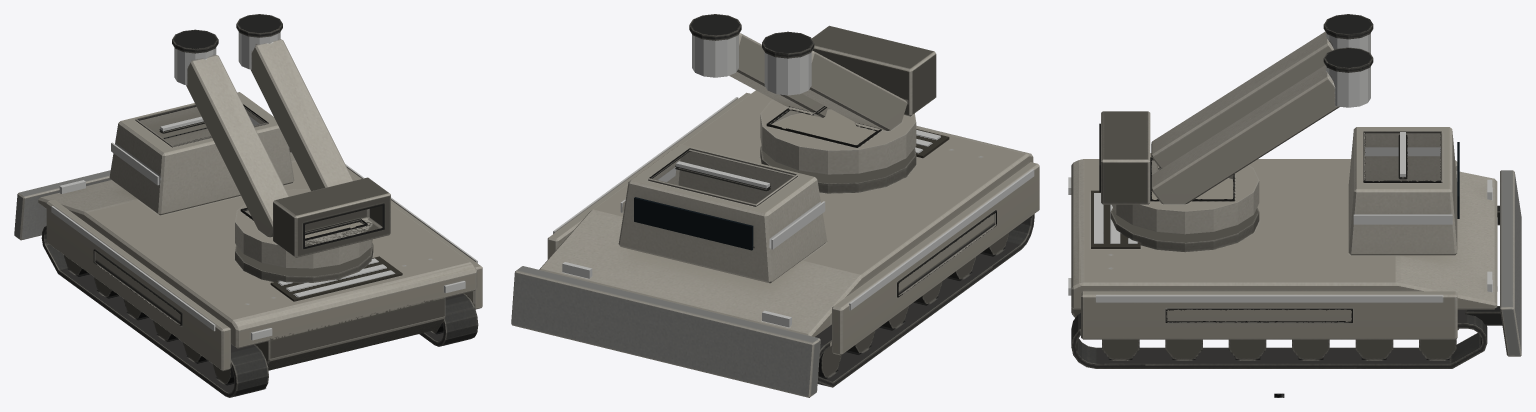
Rendered from ord_architect.fbx.
3 views of the same model, side by side, from view 1: azimuth 30°, elevation 25°; view 2: azimuth 150°, elevation 25°; view 3: azimuth 270°, elevation 25° (orthographic). The views are drawn at different scales.
Parts seen in each view (by area): view 1: base_bar, nano_bar, trackL_bar, base_glow_running_bar, trackR_bar, nano_glow_power_bar; view 2: base_bar, nano_bar, trackL_bar, base_glow_running_bar, nano_glow_power_bar, base_glow_head_bar; view 3: base_bar, nano_bar, trackR_bar, base_glow_running_bar, nano_glow_power_bar.
Part boxes in pixels (<box>): base_bar: <box>14,92,482,370</box>; nano_bar: <box>172,14,390,268</box>; trackL_bar: <box>41,226,268,397</box>; base_glow_running_bar: <box>51,116,477,340</box>; trackR_bar: <box>419,293,478,346</box>; nano_glow_power_bar: <box>174,32,280,85</box>; base_bar: <box>511,90,1039,397</box>; nano_bar: <box>689,14,936,174</box>; trackL_bar: <box>815,214,1034,387</box>; base_glow_running_bar: <box>553,97,1034,310</box>; nano_glow_power_bar: <box>692,34,811,95</box>; base_glow_head_bar: <box>562,262,791,327</box>; base_bar: <box>1071,127,1521,356</box>; nano_bar: <box>1099,14,1373,234</box>; trackR_bar: <box>1071,309,1487,368</box>; base_glow_running_bar: <box>1068,132,1497,302</box>; nano_glow_power_bar: <box>1326,33,1370,107</box>.
Size of the model in its own units: 660 by 790 by 916.
Materials: 2 (2 with a texture image).
